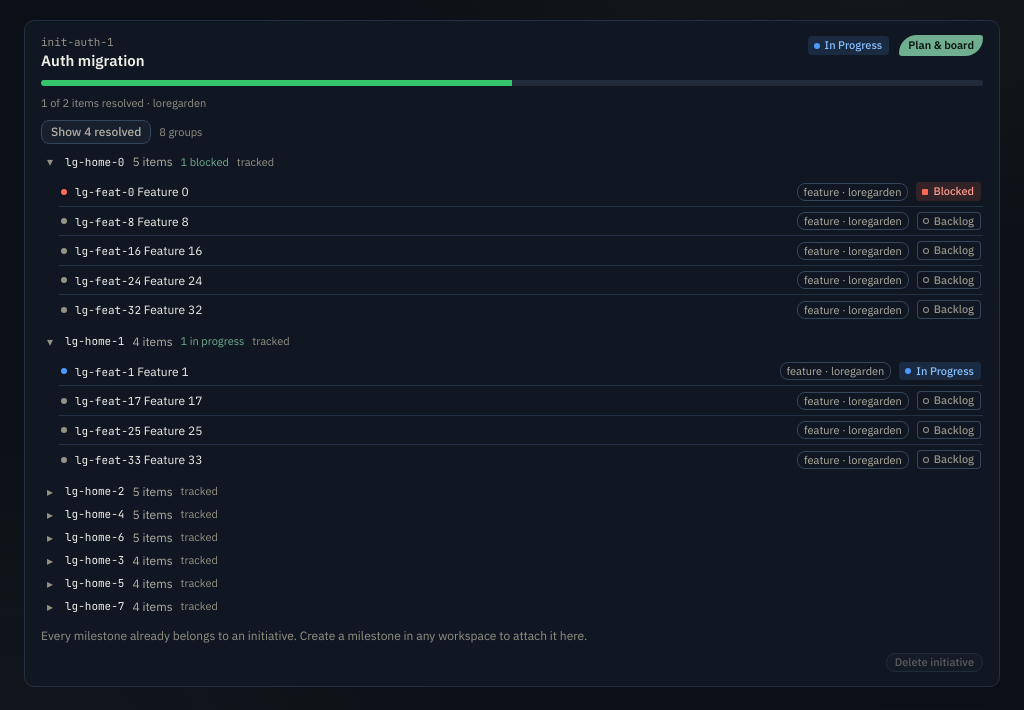
Test: an initiative at volume › groups rows by home milestone, opening only the groups with work in flight
The width and height of the screenshot is (1024, 710).
Expected: the message reads "8 groups", x1=159 y1=125 x2=202 y2=139
Expected: the button "lg-feat-0 Feature 0" is shown, x1=75 y1=184 x2=789 y2=199
Click the button "Show 4 resolved" at (96, 132), box x1=41 y1=120 x2=151 y2=144
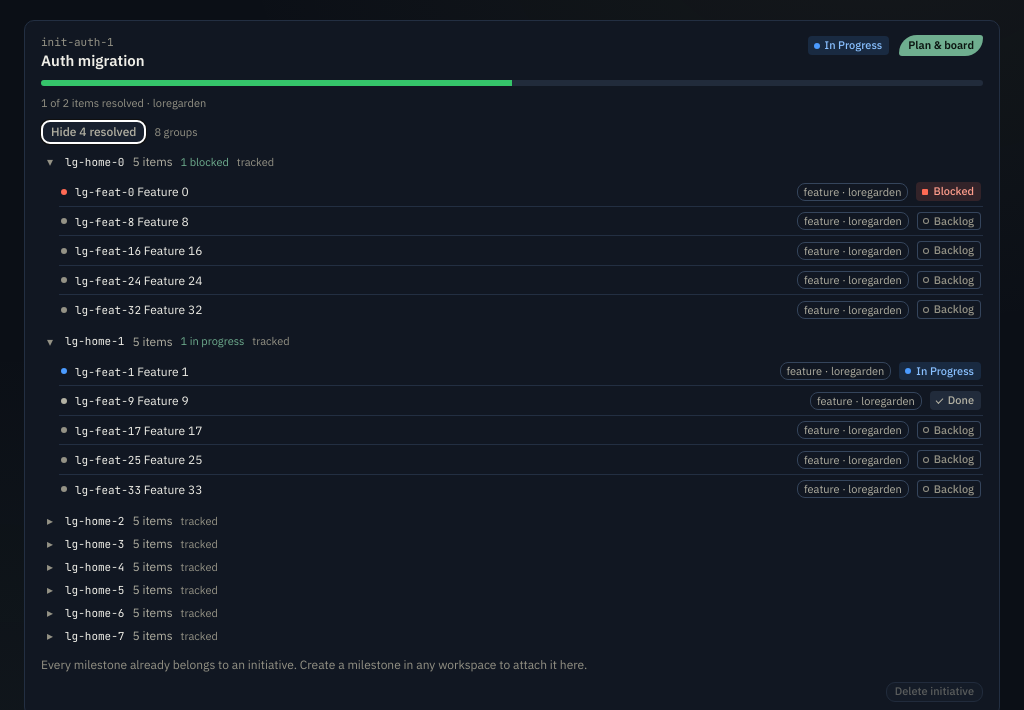
Now the button "Hide 4 resolved" is pressed, box x1=41 y1=120 x2=146 y2=144
Click the text "lg-home-2" at (95, 521), box x1=65 y1=514 x2=124 y2=528
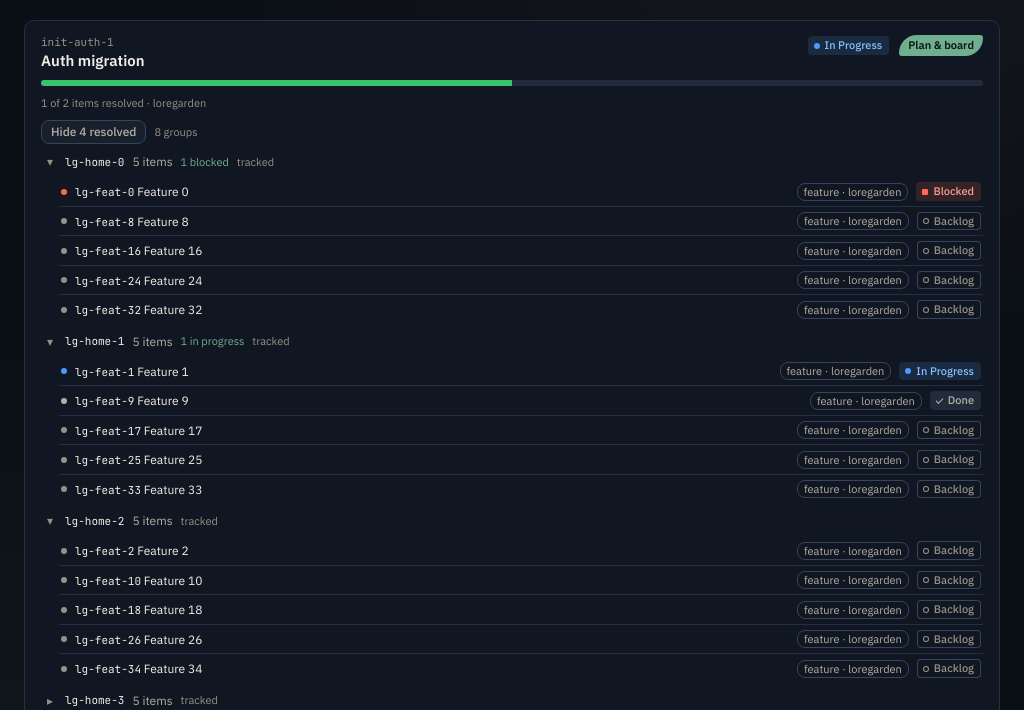
Now the button "lg-feat-2 Feature 2" is shown, box x1=75 y1=543 x2=789 y2=558
